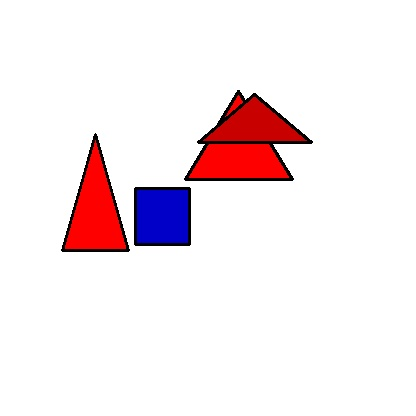rectangle: (135, 188, 189, 244)
triangle: (185, 91, 292, 179), (62, 134, 128, 250), (198, 94, 311, 142)
